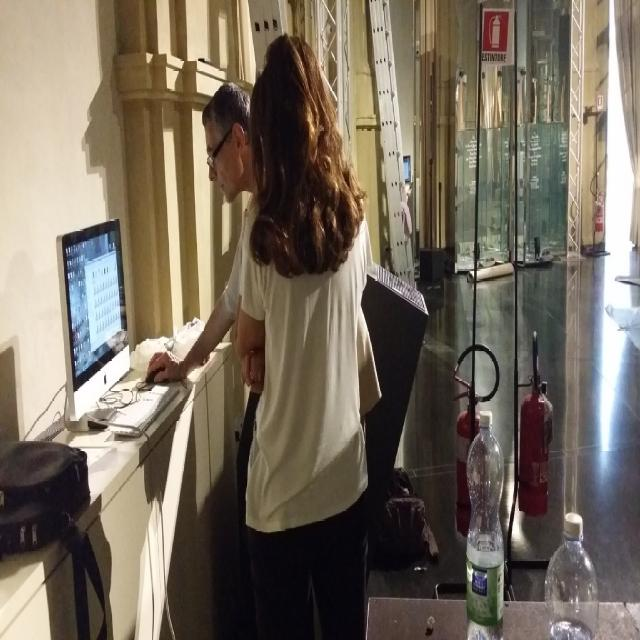desk: (14, 345, 244, 619)
person: (232, 37, 379, 632)
tv: (56, 216, 132, 427)
